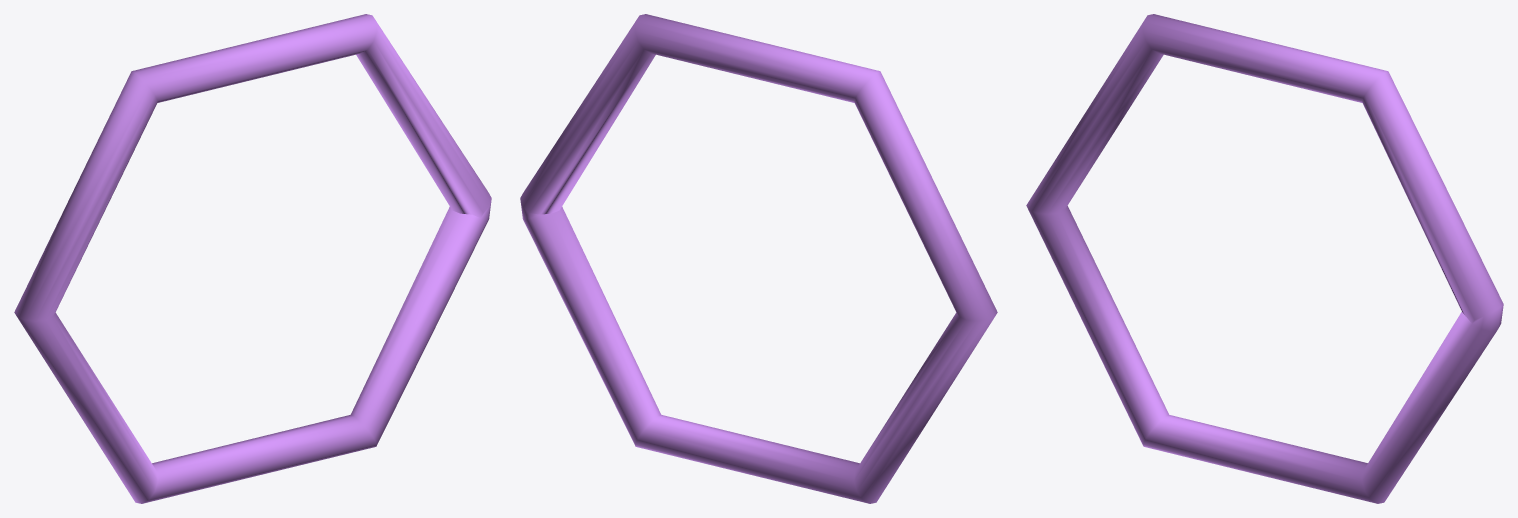
Rendered from hexagon-BEp7Fdoc.glb.
The picture shows the model from 3 angles, left to right: view 1: azimuth 30°, elevation 25°; view 2: azimuth 150°, elevation 25°; view 3: azimuth 330°, elevation 25°; orthographic projection.
Parts seen in each view (by area): view 1: R3D_hexagon_Body_0; view 2: R3D_hexagon_Body_0; view 3: R3D_hexagon_Body_0.
Boxes of the visible parts, box(x1,y1,x2,y2) form: R3D_hexagon_Body_0: box(14, 14, 491, 503); R3D_hexagon_Body_0: box(520, 14, 997, 503); R3D_hexagon_Body_0: box(1026, 14, 1503, 503).
Size of the model in its own units: 2.37 by 2.06 by 0.18.
